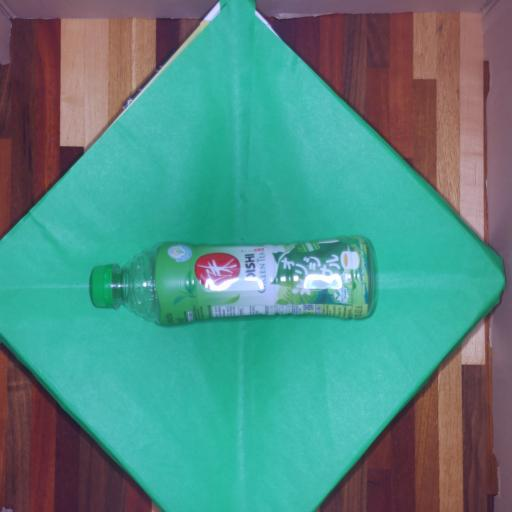bottle: (77, 222, 389, 332)
